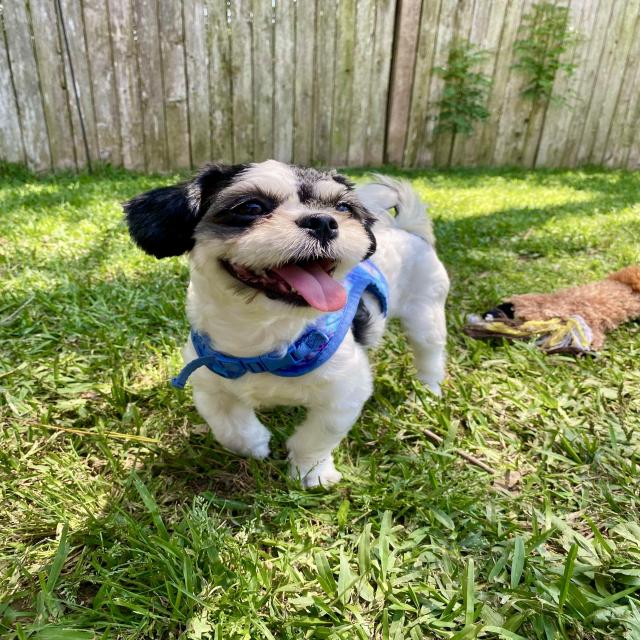shih_tzu_dog: (123, 143, 390, 326)
